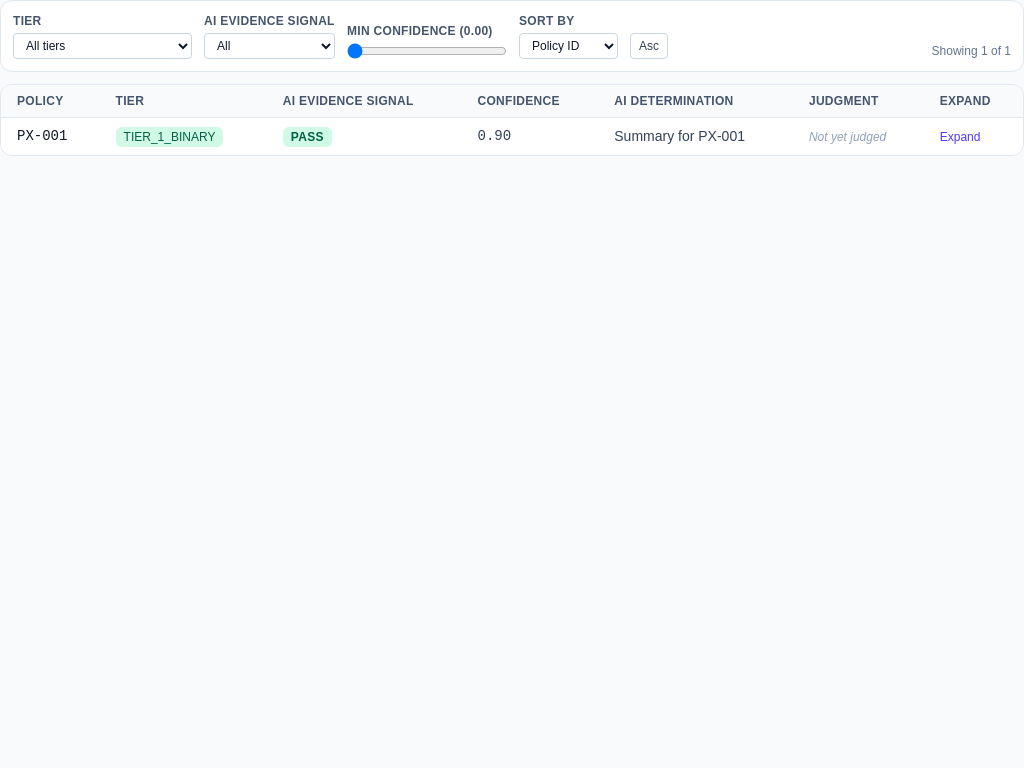
PerPolicyResultsTable AI Determination + policy text + tech disclosure › falls back to 'not retrieved' when slices exist but no policy_id match
Click the button with test id "per-policy-expand-toggle". click: click(960, 137)
box: [940,129,980,145]
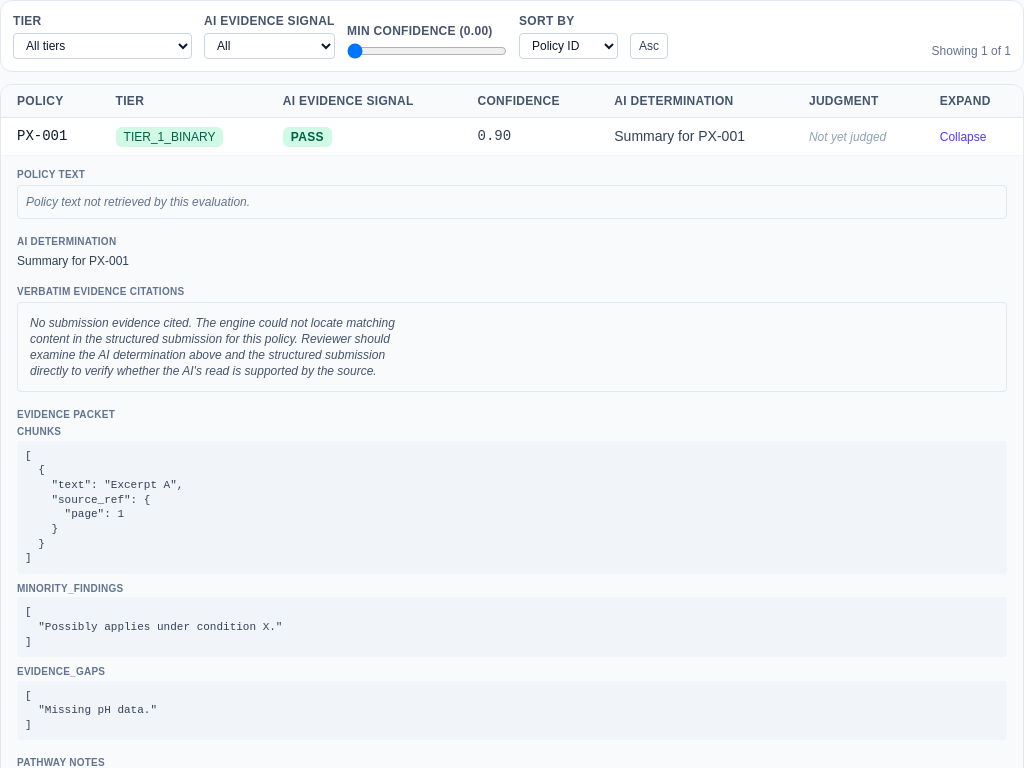
expect the text "Policy text not retrieved by this evaluation." is shown: met, box [17,185,1007,219]
